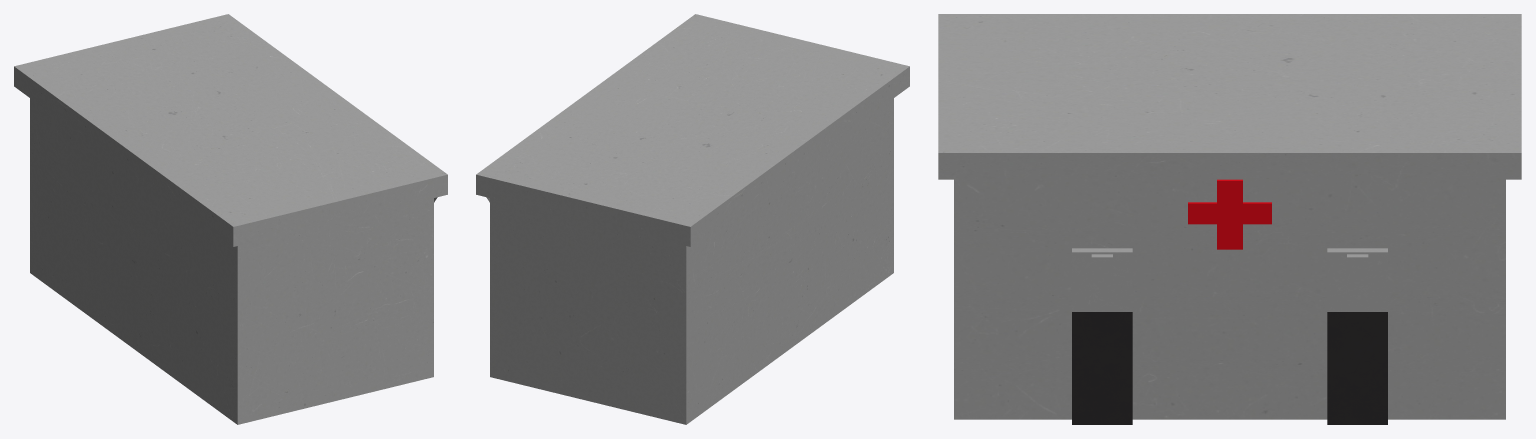
Rendered from medkit.fbx.
3 views of the same model, side by side, from view 1: azimuth 30°, elevation 25°; view 2: azimuth 150°, elevation 25°; view 3: azimuth 270°, elevation 25° (orthographic). The views are drawn at different scales.
Parts seen in each view (by area): view 1: Base; view 2: Base; view 3: Base, Tiras, Cerradura, Cruz.
Part boxes in pixels (bbox=[...]): Base: bbox=[14, 14, 447, 424]; Base: bbox=[476, 14, 909, 424]; Base: bbox=[938, 14, 1521, 419]; Tiras: bbox=[1072, 312, 1387, 424]; Cerradura: bbox=[1072, 248, 1387, 311]; Cruz: bbox=[1188, 179, 1271, 249].
Bounding box in the file's own units: 60.45 × 52.49 × 102.
